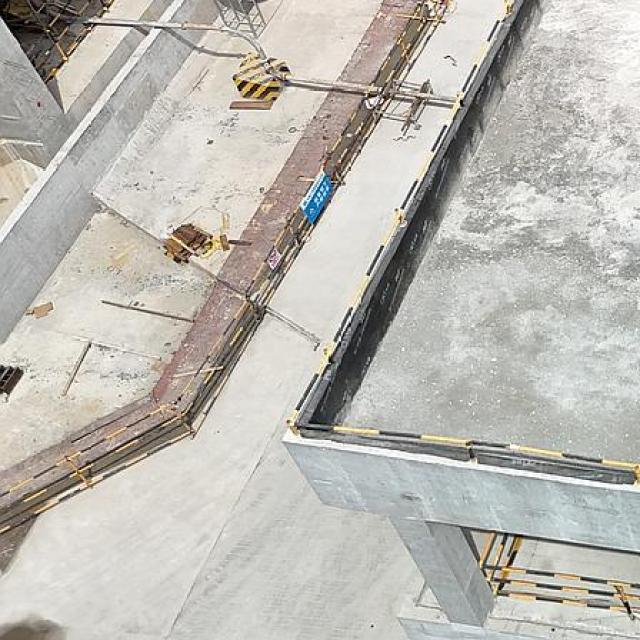edge_guardrail: (0, 0, 443, 536), (284, 0, 640, 483), (480, 531, 640, 619), (11, 0, 112, 84)
